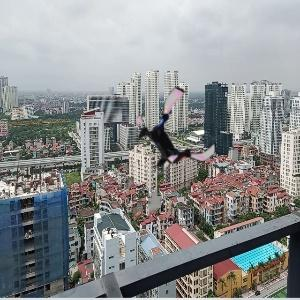drone: (134, 93, 221, 180)
